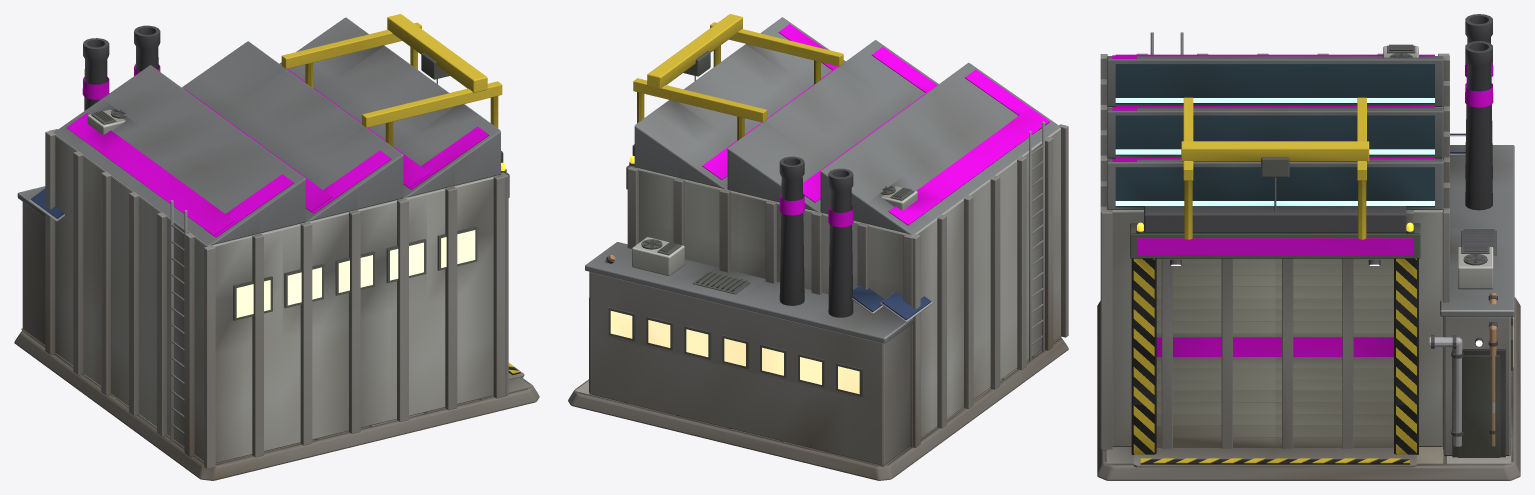
File: factory.glb
The picture shows the model from 3 angles, left to right: view 1: azimuth 30°, elevation 25°; view 2: azimuth 150°, elevation 25°; view 3: azimuth 270°, elevation 25°; orthographic projection. The views are drawn at different scales.
Visible parts, largest first — view 1: Body; view 2: Body; view 3: Body.
Boxes of the visible parts, x1,y1,x2,y2 form: Body: (14,14,539,480); Body: (568,14,1068,480); Body: (1097,14,1520,480).
Bounding box in the file's own units: 5.99 × 5.04 × 5.98.
1 material, 1 textured.
